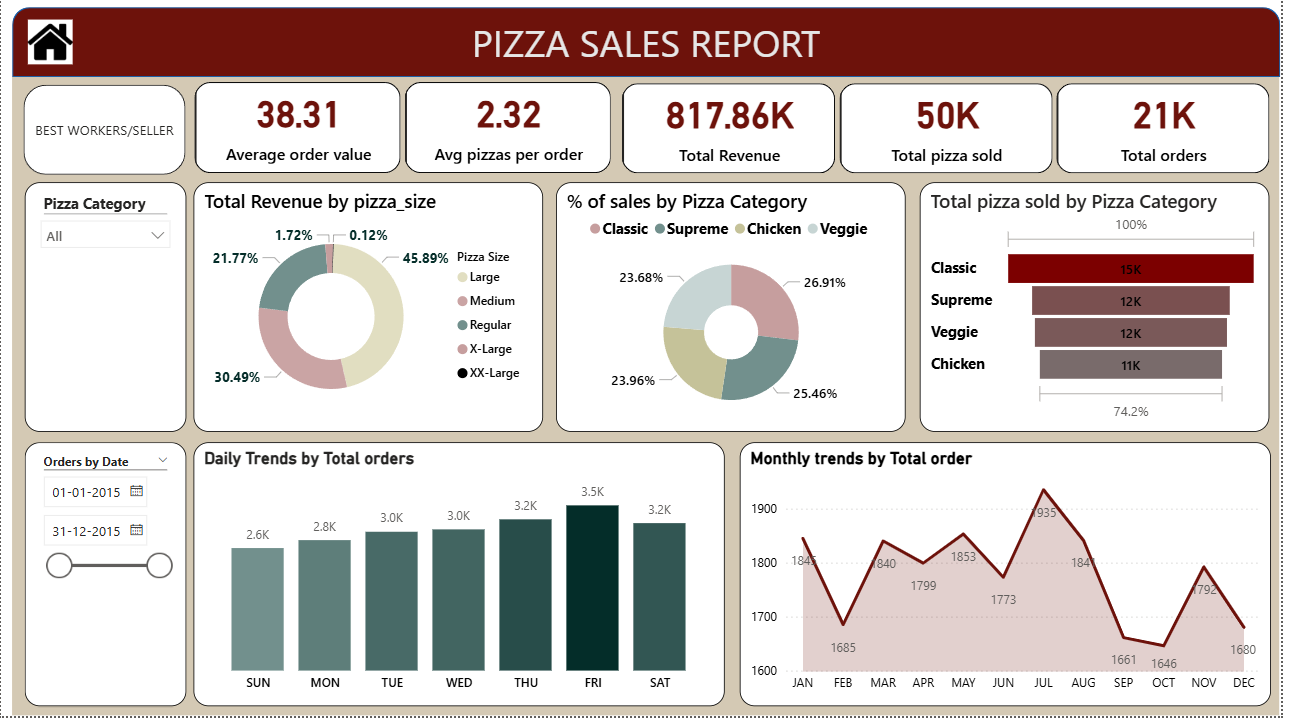

This screenshot's page, from the dashboard's own definition file:
{"tool":"powerbi","page":{"name":"HOME","canvas":[1280,720],"ordinal":0},"visuals":[{"type":"shape","box":[11,80.5,1266.9,639.5],"z":0},{"type":"shape","box":[11,11,1268,69.7],"z":1000},{"type":"cardVisual","fields":{"Data":["pizza_sales.Average order value","pizza_sales.Avg pizzas per order"]},"box":[188.6,81.4,427.1,101.4],"z":3000},{"type":"cardVisual","fields":{"Data":["pizza_sales.Total Revenue","pizza_sales.Total pizza sold","pizza_sales.Total orders"]},"box":[615.7,82.9,658.6,100],"z":4000},{"type":"columnChart","title":"Daily Trends  by Total orders","fields":{"Category":["pizza_sales.Order Day"],"Y":["pizza_sales.Total orders"]},"box":[191.9,446.7,531,264.1],"z":5000},{"type":"areaChart","title":"Monthly trends by Total order","fields":{"Category":["pizza_sales.order month"],"Y":["pizza_sales.Total orders"]},"box":[738.5,446.7,531,264.1],"z":6000},{"type":"donutChart","title":"% of sales by Pizza Category","fields":{"Category":["pizza_sales.pizza_category"],"Y":["pizza_sales.Total Revenue"]},"box":[555.1,186.5,349.7,249.5],"z":7000},{"type":"donutChart","fields":{"Category":["pizza_sales.pizza_size"],"Y":["pizza_sales.Total Revenue"]},"box":[191.9,186.5,349.7,249.5],"z":8000},{"type":"funnel","title":"Total pizza sold by Pizza Category","fields":{"Category":["pizza_sales.pizza_category"],"Y":["pizza_sales.Total pizza sold"]},"box":[918.3,186.5,349.7,249.5],"z":9000},{"type":"slicer","fields":{"Values":["pizza_sales.pizza_category"]},"box":[23.2,186.5,161.4,249.5],"z":10000},{"type":"slicer","fields":{"Values":["pizza_sales.order_date"]},"box":[23.2,446.7,161.4,264.1],"z":11000},{"type":"pageNavigator","box":[22.9,88.6,162.9,90],"z":12000},{"type":"textbox","box":[377.1,15.7,535.7,64.3],"z":15002},{"type":"image","box":[21.4,18.6,55.7,54.3],"z":15003}]}

Visuals, with their boxes in screenshot pixels (x1, y1, x2, y2), scaled from the page's 1280x720 canvas onto the 1290x722 screenshot:
shape: {"left": 11, "top": 81, "right": 1288, "bottom": 721}
shape: {"left": 11, "top": 11, "right": 1289, "bottom": 81}
cardVisual - pizza_sales.Average order value x pizza_sales.Avg pizzas per order: {"left": 190, "top": 82, "right": 621, "bottom": 183}
cardVisual - pizza_sales.Total Revenue x pizza_sales.Total pizza sold: {"left": 621, "top": 83, "right": 1284, "bottom": 183}
"Daily Trends  by Total orders" columnChart: {"left": 193, "top": 448, "right": 729, "bottom": 713}
"Monthly trends by Total order" areaChart: {"left": 744, "top": 448, "right": 1279, "bottom": 713}
"% of sales by Pizza Category" donutChart: {"left": 559, "top": 187, "right": 912, "bottom": 437}
donutChart - pizza_sales.pizza_size x pizza_sales.Total Revenue: {"left": 193, "top": 187, "right": 546, "bottom": 437}
"Total pizza sold by Pizza Category" funnel: {"left": 925, "top": 187, "right": 1278, "bottom": 437}
slicer - pizza_sales.pizza_category: {"left": 23, "top": 187, "right": 186, "bottom": 437}
slicer - pizza_sales.order_date: {"left": 23, "top": 448, "right": 186, "bottom": 713}
pageNavigator: {"left": 23, "top": 89, "right": 187, "bottom": 179}
textbox: {"left": 380, "top": 16, "right": 920, "bottom": 80}
image: {"left": 22, "top": 19, "right": 78, "bottom": 73}
